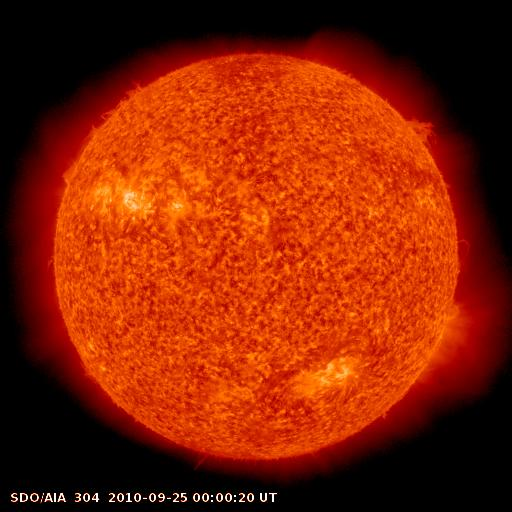prominence: (61, 80, 148, 193), (393, 99, 450, 156), (440, 229, 481, 278)
